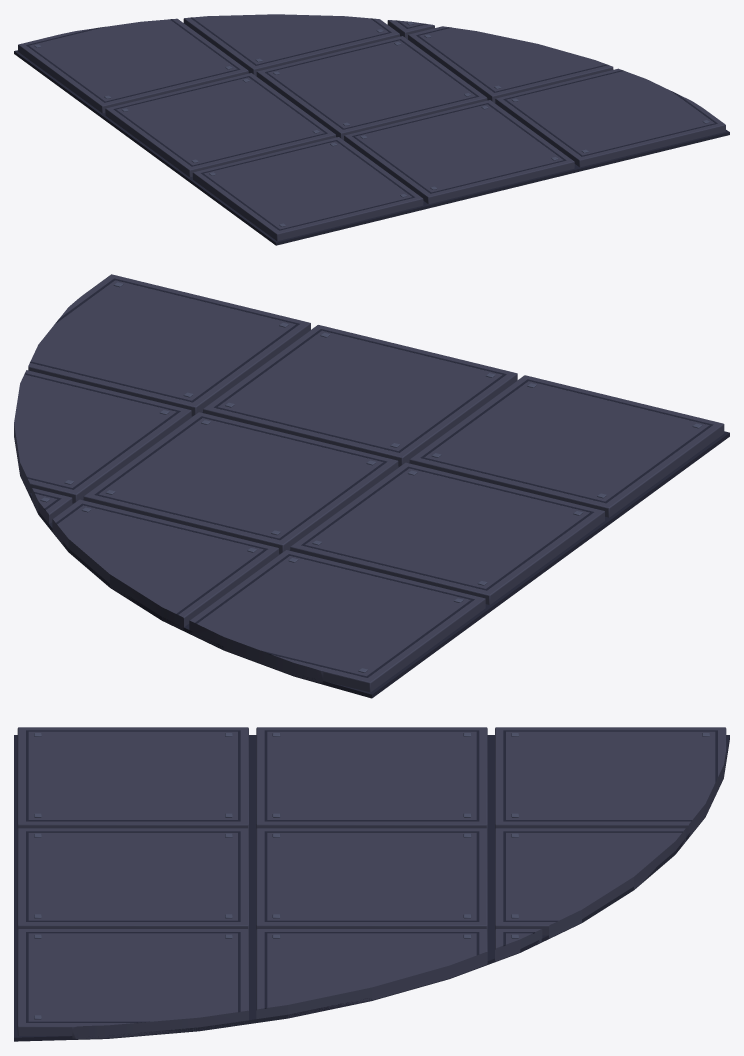
The model's file is floor.arc3.plate.glb.
3 renders of one model, top to bottom at view 1: azimuth 30°, elevation 25°; view 2: azimuth 150°, elevation 25°; view 3: azimuth 270°, elevation 25°, orthographic. The views are drawn at different scales.
Visible parts, largest first — view 1: GEO-floor.arc3.plate; view 2: GEO-floor.arc3.plate; view 3: GEO-floor.arc3.plate.
Boxes of the visible parts, bbox=[...] form: GEO-floor.arc3.plate: bbox=[14, 14, 729, 245]; GEO-floor.arc3.plate: bbox=[14, 274, 729, 698]; GEO-floor.arc3.plate: bbox=[14, 727, 729, 1041].
Bounding box in the file's own units: 3 × 0.069 × 3.
